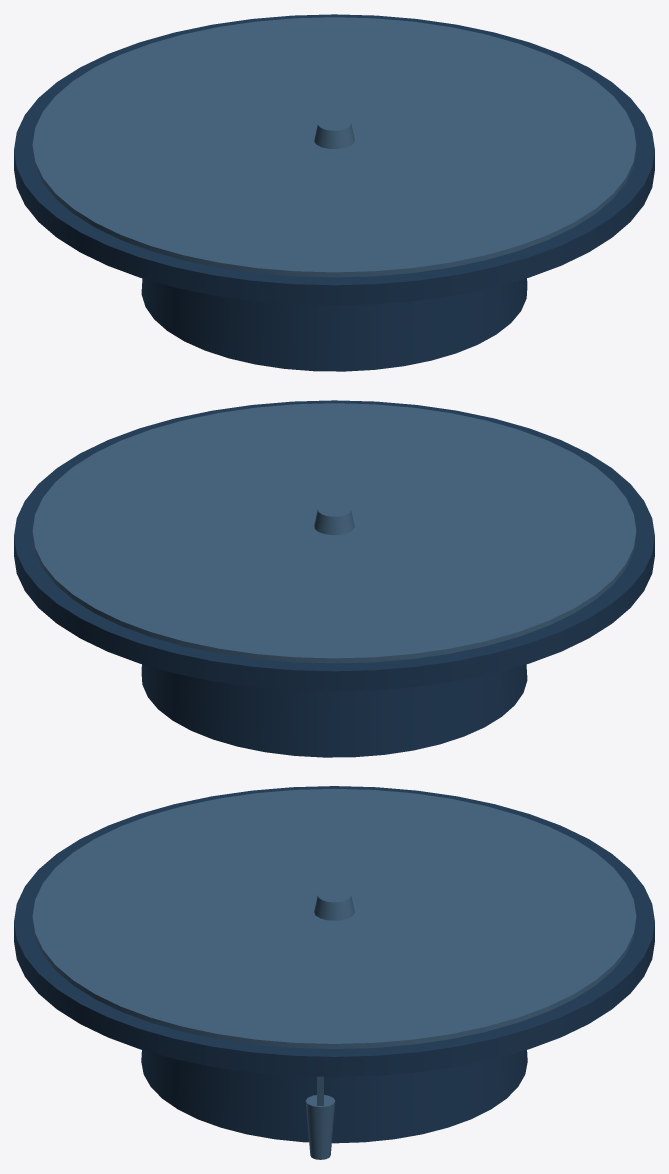
File: toga_oxford.glb
3 views of the same model, one above another, from view 1: azimuth 30°, elevation 25°; view 2: azimuth 150°, elevation 25°; view 3: azimuth 270°, elevation 25° (orthographic).
Parts seen in each view (by area): view 1: board-trim, round-board, crown, button; view 2: board-trim, round-board, crown, button; view 3: board-trim, round-board, crown, tassel, button.
Boxes of the visible parts, left/top/right/bottom form: board-trim: left=32, top=17, right=636, bottom=277; round-board: left=14, top=14, right=654, bottom=305; crown: left=141, top=278, right=527, bottom=371; button: left=314, top=116, right=354, bottom=148; board-trim: left=32, top=403, right=636, bottom=663; round-board: left=14, top=400, right=654, bottom=691; crown: left=141, top=664, right=527, bottom=757; button: left=314, top=502, right=354, bottom=534; board-trim: left=32, top=789, right=636, bottom=1048; round-board: left=14, top=786, right=654, bottom=1076; crown: left=141, top=1050, right=527, bottom=1143; tassel: left=305, top=1095, right=335, bottom=1159; button: left=314, top=888, right=354, bottom=920.
Bounding box in the file's own units: 6.9 × 1.97 × 6.9.
